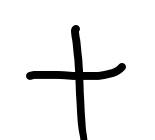plus: (27, 25, 126, 140)
